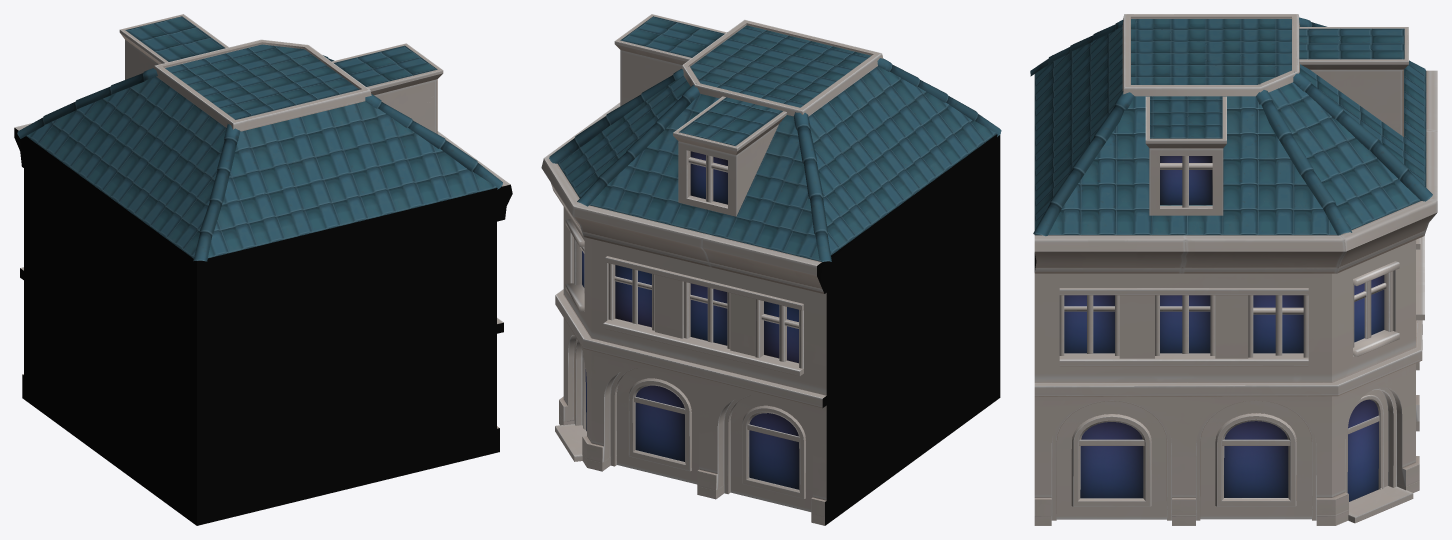
Rendered from Restaurant.fbx.
3 views of the same model, side by side, from view 1: azimuth 30°, elevation 25°; view 2: azimuth 150°, elevation 25°; view 3: azimuth 270°, elevation 25° (orthographic). The views are drawn at different scales.
Parts seen in each view (by area): view 1: Cube.065, Building02.005, Cube.079, Cube.007; view 2: Cube.065, Building02.005, Cube.079, Cube.009, Cube.010, Cube.008, Cube.007, Cube.095; view 3: Cube.065, Building02.005, Cube.079, Cube.009, Cube.010, Cube.008, Cube.007, Cube.095.
Part boxes in pixels (box(x1,y1,x2,y2)): Cube.065: box(14, 123, 512, 525); Building02.005: box(17, 44, 502, 261); Cube.079: box(119, 14, 443, 133); Cube.007: box(153, 39, 371, 131); Cube.065: box(541, 102, 1000, 525); Building02.005: box(549, 25, 1001, 262); Cube.079: box(614, 14, 786, 216); Cube.009: box(565, 219, 803, 376); Cube.010: box(583, 357, 799, 489); Cube.008: box(582, 251, 798, 363); Cube.007: box(682, 19, 883, 116); Cube.095: box(555, 424, 586, 461); Cube.065: box(1034, 70, 1437, 525); Building02.005: box(1030, 17, 1432, 236); Cube.079: box(1145, 27, 1408, 215); Cube.009: box(1059, 235, 1424, 366); Cube.010: box(1080, 399, 1380, 501); Cube.008: box(1064, 275, 1384, 353); Cube.007: box(1122, 14, 1299, 96); Cube.095: box(1348, 486, 1413, 523).
Size of the model in its own units: 977 by 1031 by 975.
